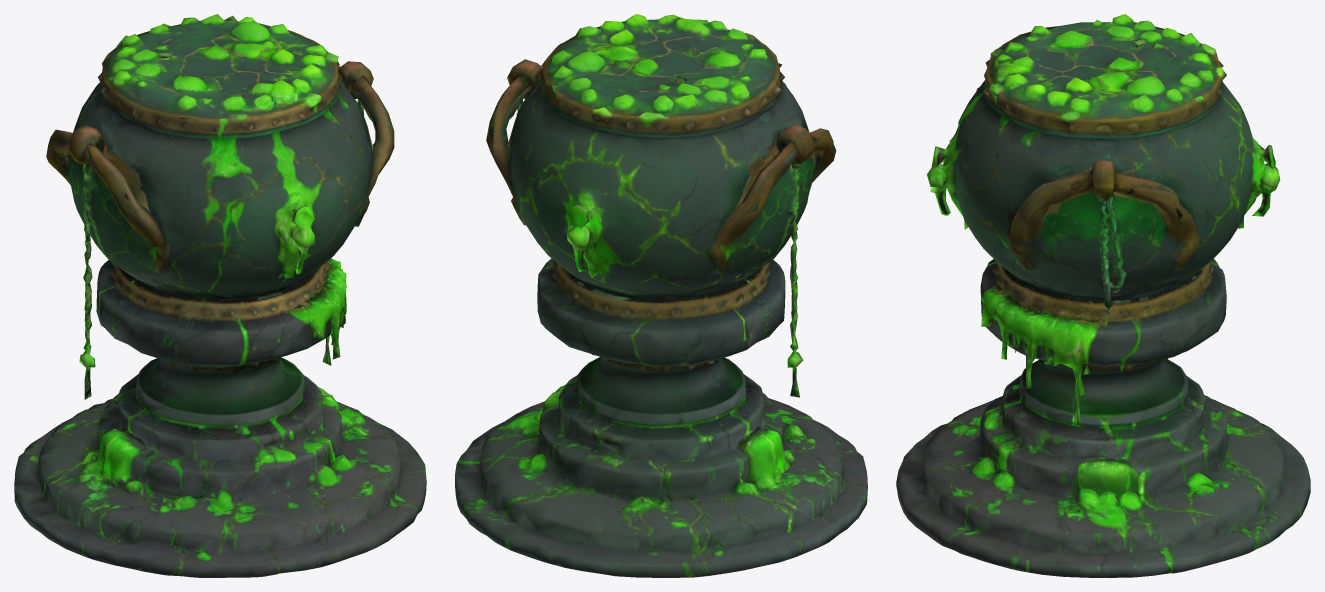
Rendered from pot_high_quality.glb.
The picture shows the model from 3 angles, left to right: view 1: azimuth 30°, elevation 25°; view 2: azimuth 150°, elevation 25°; view 3: azimuth 270°, elevation 25°; orthographic projection.
Parts seen in each view (by area): view 1: Base; view 2: Base; view 3: Base.
Boxes of the visible parts, left/top/right/bottom form: Base: left=14, top=14, right=426, bottom=577; Base: left=455, top=14, right=867, bottom=577; Base: left=896, top=14, right=1310, bottom=577.
Bounding box in the file's own units: 1.63 × 1.91 × 1.63.
Materials: 1 (1 with a texture image).
